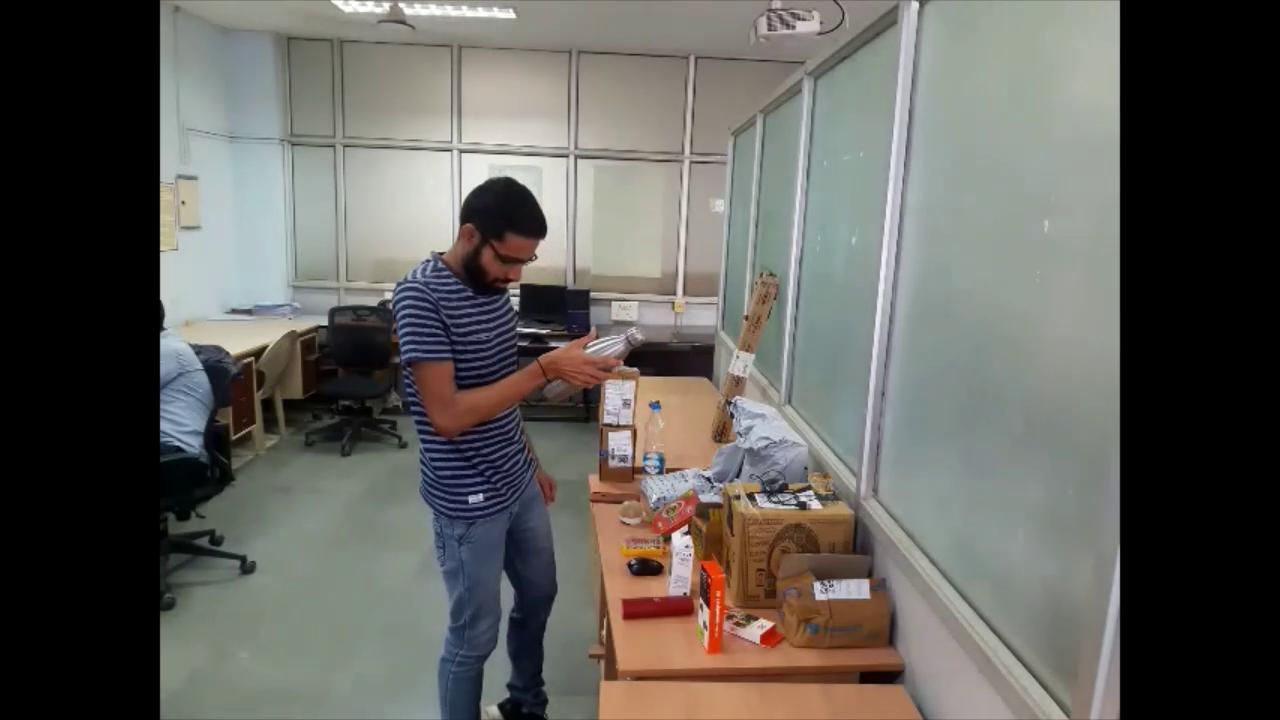Normal: (389, 177, 646, 719)
